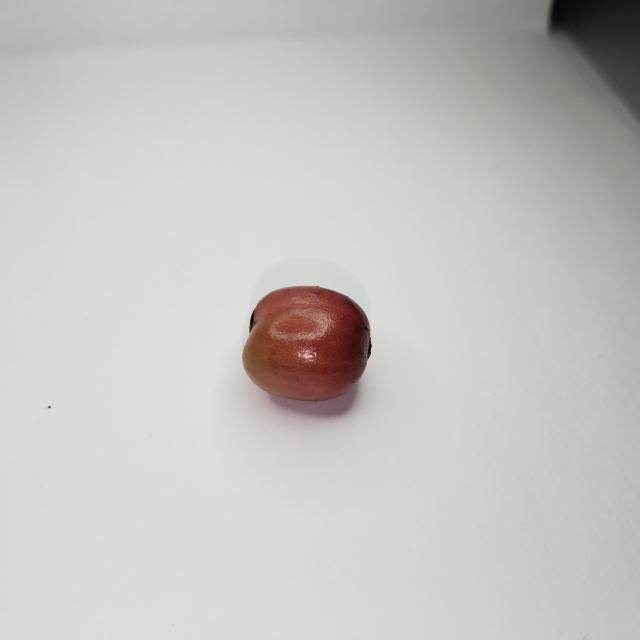Sano: (242, 286, 372, 404)
